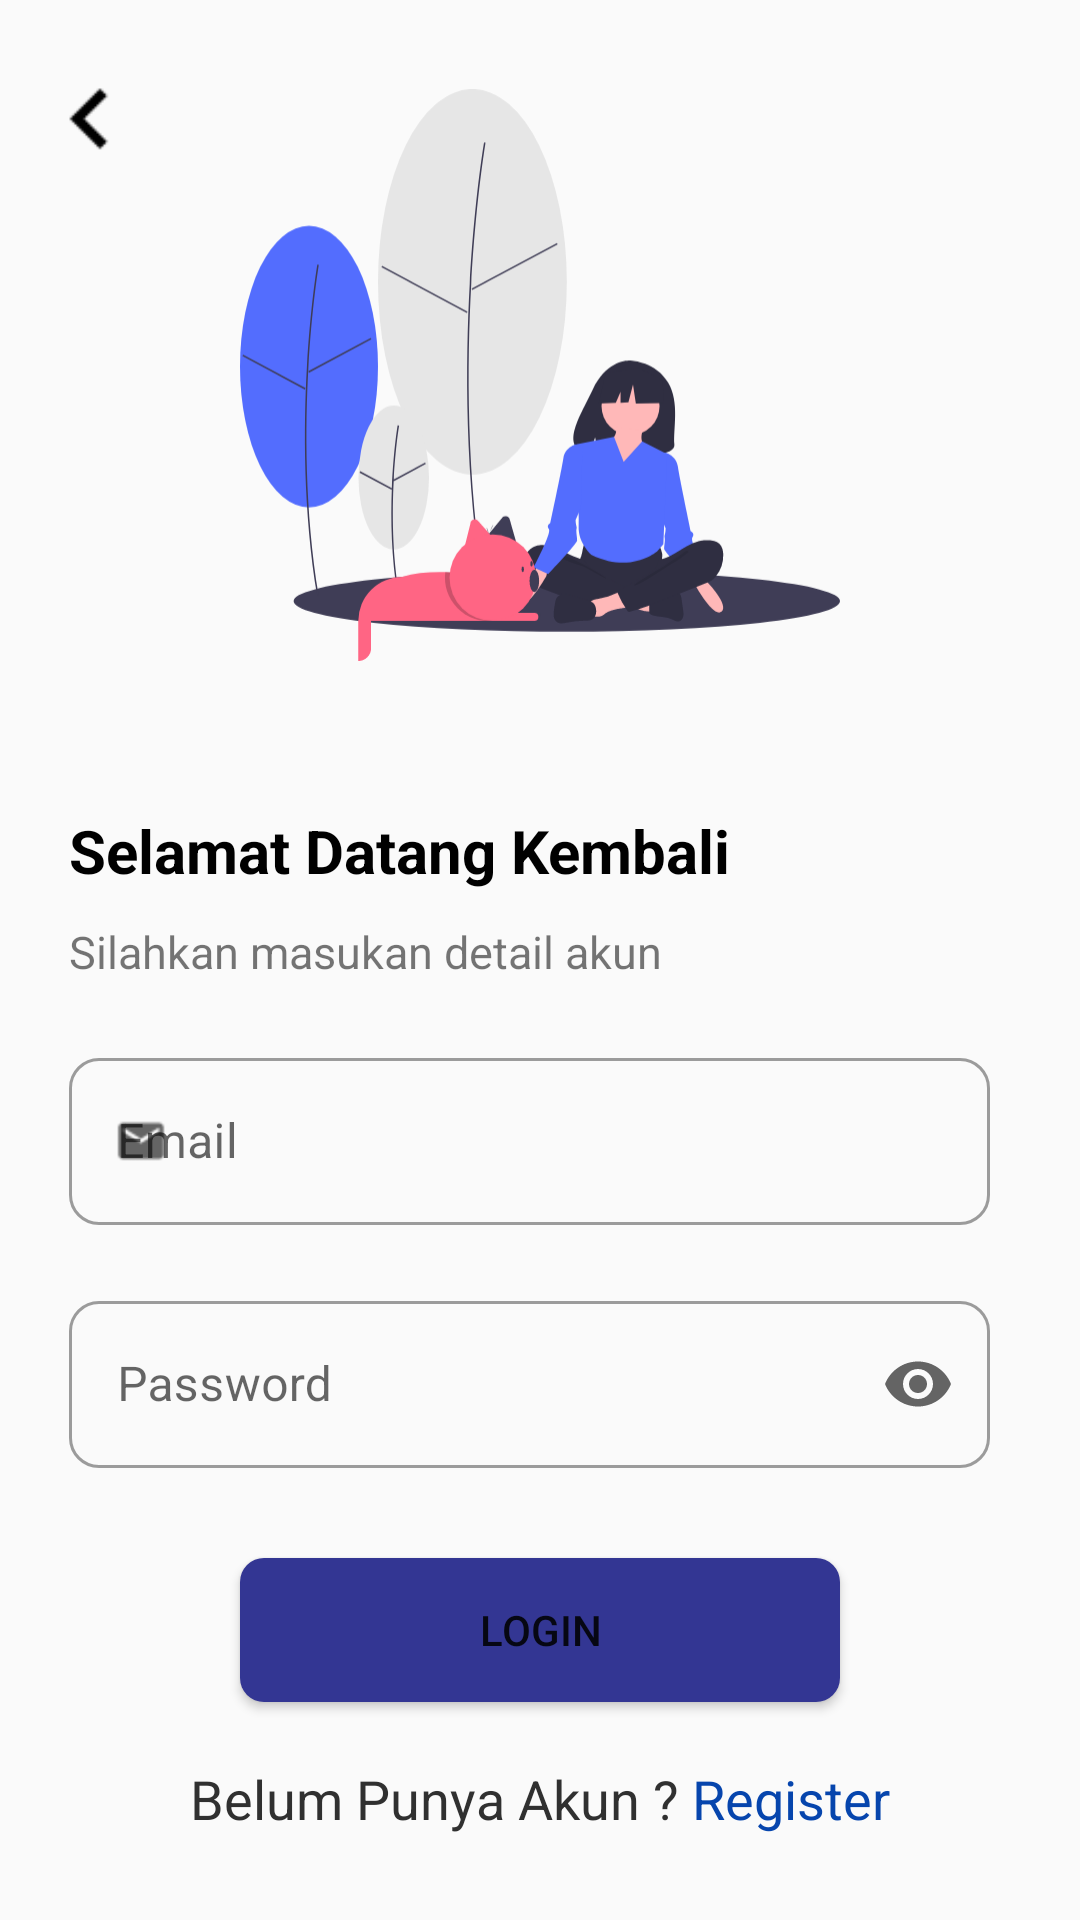

Named icons in this screenshot (1080x1920) and their centers, [x,y]:
arrow left: [88,119]
